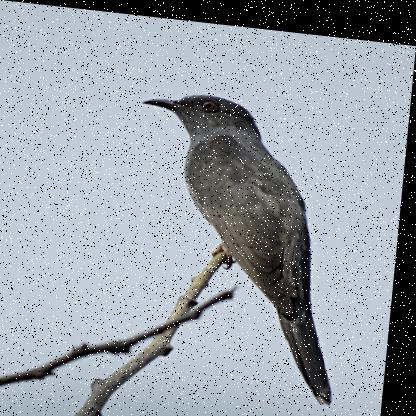Burung: (123, 83, 362, 399)
